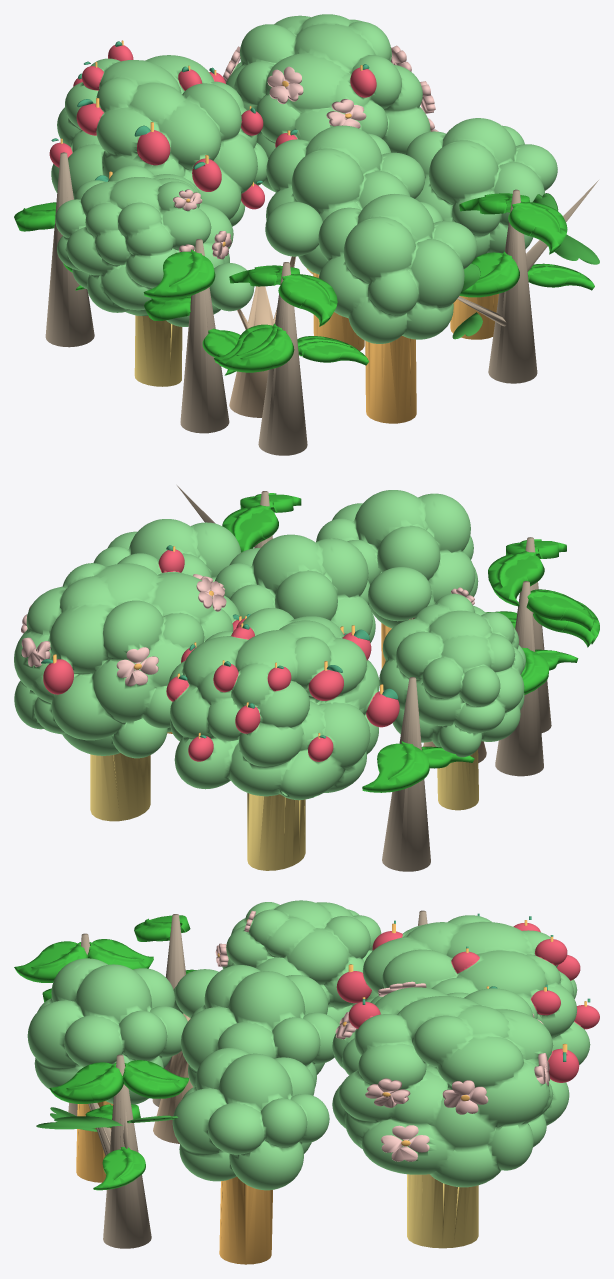
The model's file is mori demo.glb.
3 views of the same model, one above another, from view 1: azimuth 30°, elevation 25°; view 2: azimuth 150°, elevation 25°; view 3: azimuth 270°, elevation 25° (orthographic).
Visible parts, largest first — view 1: obj_0.021, obj_0.001, obj_0.019, obj_0.007, obj_0.014, obj_0.006, obj_0.015, obj_0.026, obj_0.004, obj_0.022, obj_0.002, obj_0.009 (+10 smaller); view 2: obj_0.021, obj_0.019, obj_0.007, obj_0.001, obj_0.006, obj_0.014, obj_0.002, obj_0.004, obj_0.015, obj_0.003, obj_0.011, obj_0.029 (+6 smaller); view 3: obj_0.019, obj_0.014, obj_0.021, obj_0.001, obj_0.006, obj_0.007, obj_0.026, obj_0.015, obj_0.028, obj_0.027, obj_0.029, obj_0.030 (+4 smaller).
Part boxes in pixels (x1,y1,x2,y2): obj_0.021: [49, 40, 268, 226]; obj_0.001: [318, 194, 477, 423]; obj_0.019: [223, 14, 438, 274]; obj_0.007: [55, 165, 233, 386]; obj_0.014: [405, 118, 557, 339]; obj_0.006: [266, 125, 425, 350]; obj_0.015: [209, 201, 322, 417]; obj_0.026: [488, 189, 537, 383]; obj_0.004: [180, 239, 229, 433]; obj_0.022: [258, 262, 307, 455]; obj_0.002: [45, 152, 94, 347]; obj_0.009: [218, 326, 368, 372]; obj_0.021: [166, 608, 399, 870]; obj_0.019: [14, 545, 241, 821]; obj_0.007: [379, 587, 525, 810]; obj_0.001: [316, 490, 478, 668]; obj_0.006: [215, 534, 375, 642]; obj_0.014: [93, 519, 241, 733]; obj_0.002: [382, 677, 430, 871]; obj_0.004: [495, 581, 543, 776]; obj_0.015: [368, 567, 486, 762]; obj_0.003: [362, 741, 474, 792]; obj_0.011: [488, 551, 544, 606]; obj_0.029: [222, 505, 278, 552]; obj_0.019: [332, 981, 579, 1248]; obj_0.014: [172, 1048, 329, 1264]; obj_0.021: [336, 913, 599, 1064]; obj_0.001: [27, 958, 187, 1182]; obj_0.006: [181, 965, 339, 1087]; obj_0.007: [215, 900, 381, 1024]; obj_0.026: [103, 1054, 151, 1248]; obj_0.015: [153, 969, 218, 1143]; obj_0.028: [49, 1062, 123, 1103]; obj_0.027: [85, 1104, 145, 1190]; obj_0.029: [122, 1060, 188, 1098]; obj_0.030: [36, 1071, 178, 1155].
Size of the model in its own units: 158 by 79.76 by 180.
